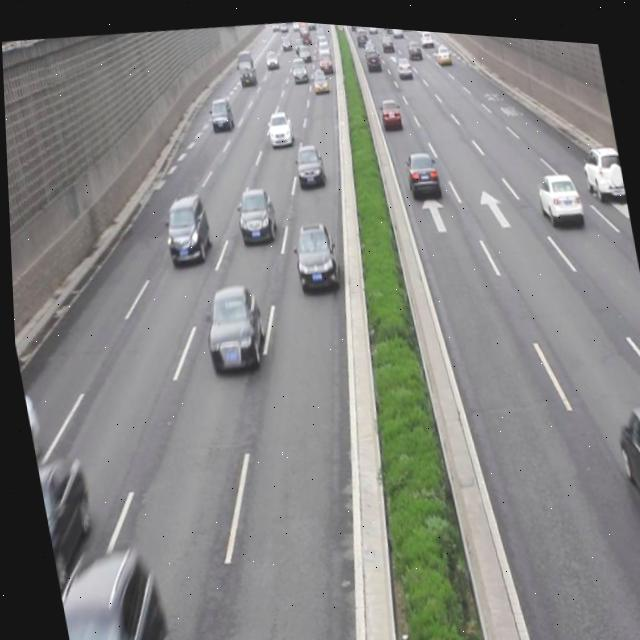car: (48, 539, 169, 640), (31, 447, 101, 587), (195, 276, 268, 373), (156, 186, 213, 263), (607, 390, 640, 521), (287, 216, 341, 290), (231, 179, 279, 246), (532, 159, 583, 222), (577, 132, 625, 195), (401, 141, 440, 197), (291, 137, 326, 188), (265, 105, 293, 145), (207, 92, 235, 131), (377, 90, 403, 128)
